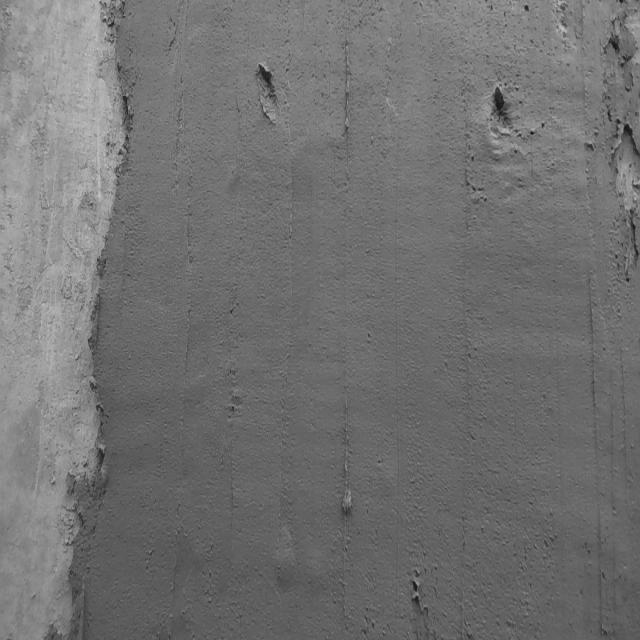trowels marks: (333, 343, 355, 618), (338, 13, 356, 198)
